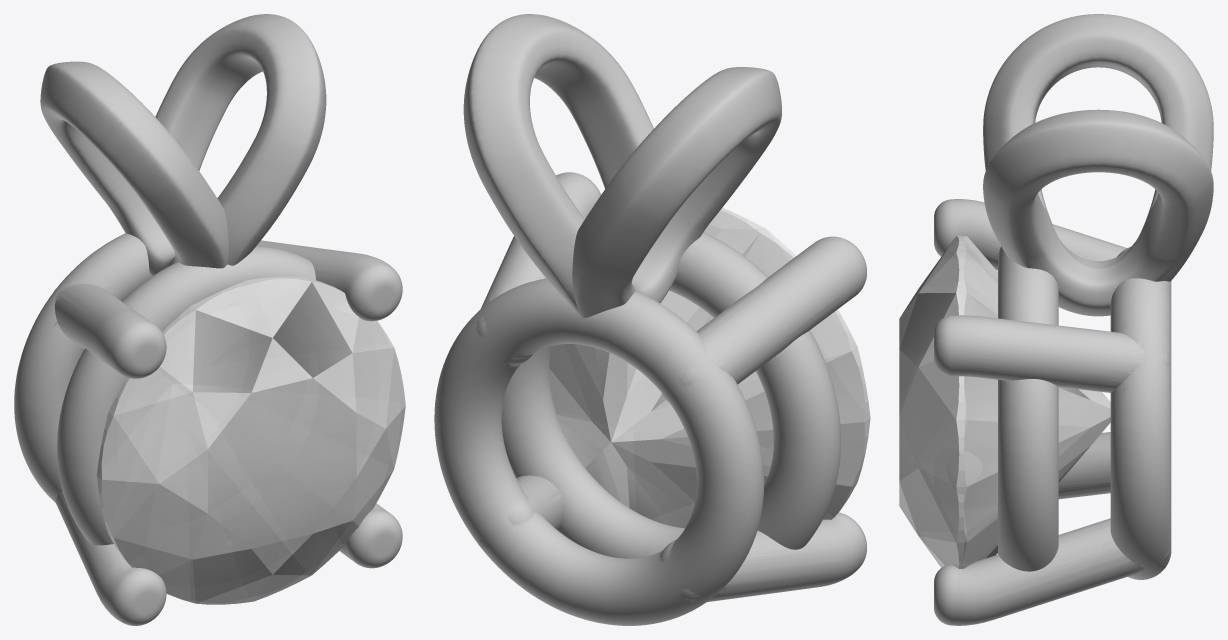
The model's file is Charm Type 4.glb.
3 views of the same model, side by side, from view 1: azimuth 30°, elevation 25°; view 2: azimuth 150°, elevation 25°; view 3: azimuth 270°, elevation 25° (orthographic). The views are drawn at different scales.
Visible parts, largest first — view 1: Object_12.001, Object_2.003; view 2: Object_12.001, Object_2.003; view 3: Object_12.001, Object_2.003.
Part boxes in pixels (x1=…): Object_12.001: x1=14, y1=14, x2=402, y2=625; Object_2.003: x1=96, y1=276, x2=405, y2=604; Object_12.001: x1=434, y1=14, x2=866, y2=625; Object_2.003: x1=549, y1=207, x2=870, y2=528; Object_12.001: x1=934, y1=14, x2=1213, y2=625; Object_2.003: x1=899, y1=236, x2=1110, y2=568.
Size of the model in its own units: 0.5176 by 0.7981 by 0.4452.
2 materials, 1 textured.
